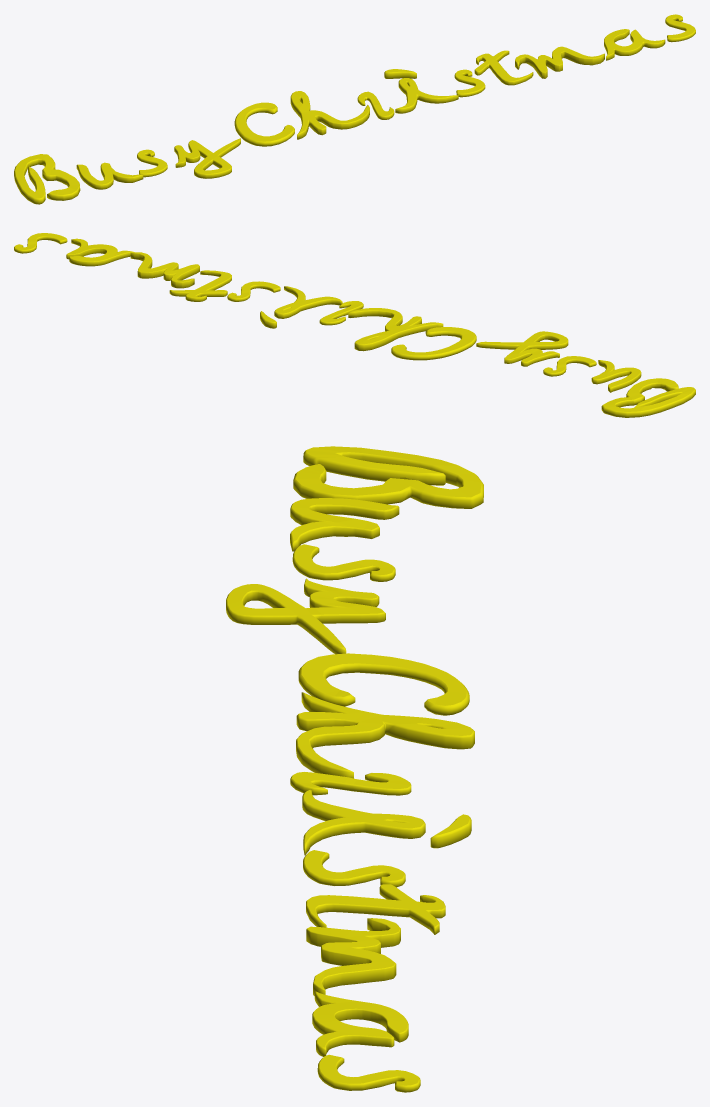
File: title09190552.fbx
The picture shows the model from 3 angles, top to bottom: view 1: azimuth 30°, elevation 25°; view 2: azimuth 150°, elevation 25°; view 3: azimuth 270°, elevation 25°; orthographic projection. The views are drawn at different scales.
Parts seen in each view (by area): view 1: 平面; view 2: 平面; view 3: 平面.
Part boxes in pixels (x1=…): 平面: x1=14, y1=14, x2=695, y2=204; 平面: x1=14, y1=233, x2=695, y2=417; 平面: x1=226, y1=446, x2=483, y2=1092.
Size of the model in its own units: 0.752 by 0.0102 by 0.1277.
